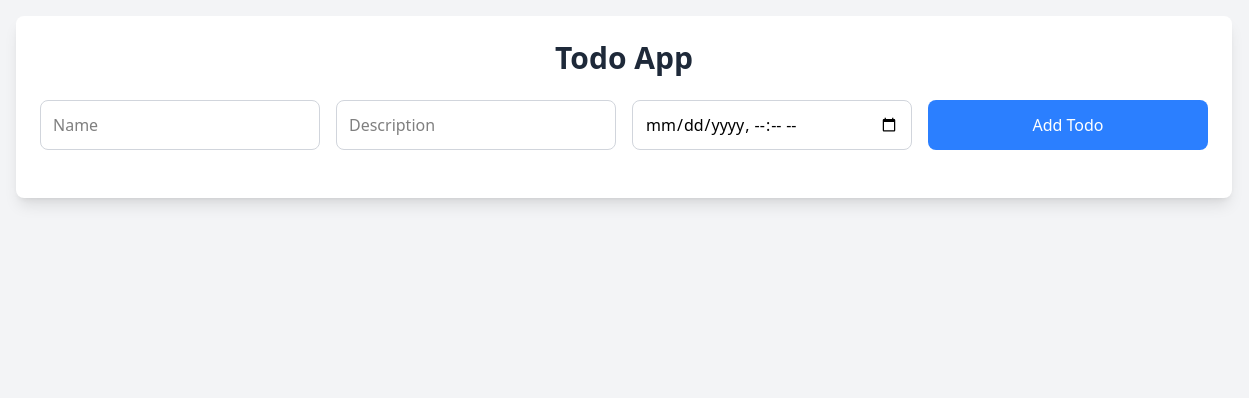
Home › adds a new todo
The image size is (1249, 398).
Type "Test Todo" into the field with placeholder "Name". click: coordinates (180, 125)
box: x1=40 y1=100 x2=320 y2=150
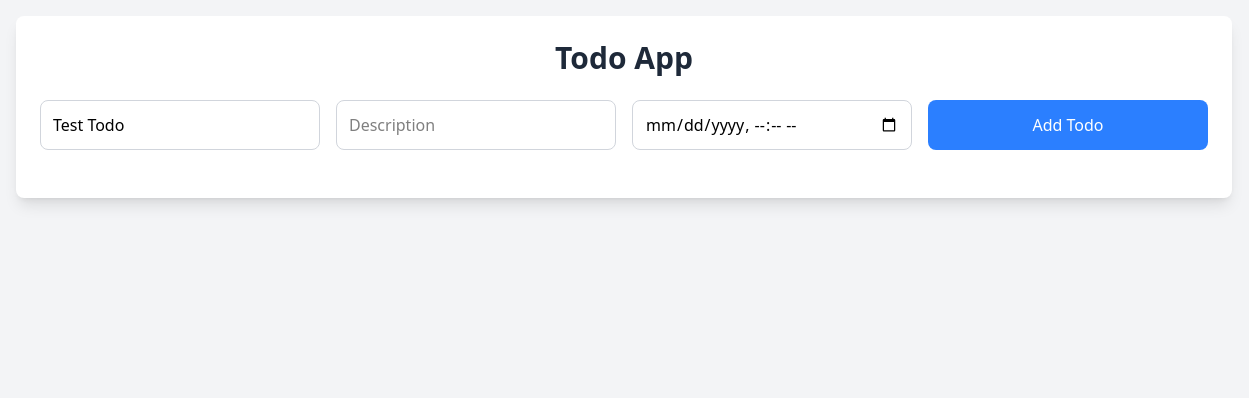
Type "Test Description" into the field with placeholder "Description". click: coordinates (476, 125)
box: x1=336 y1=100 x2=616 y2=150
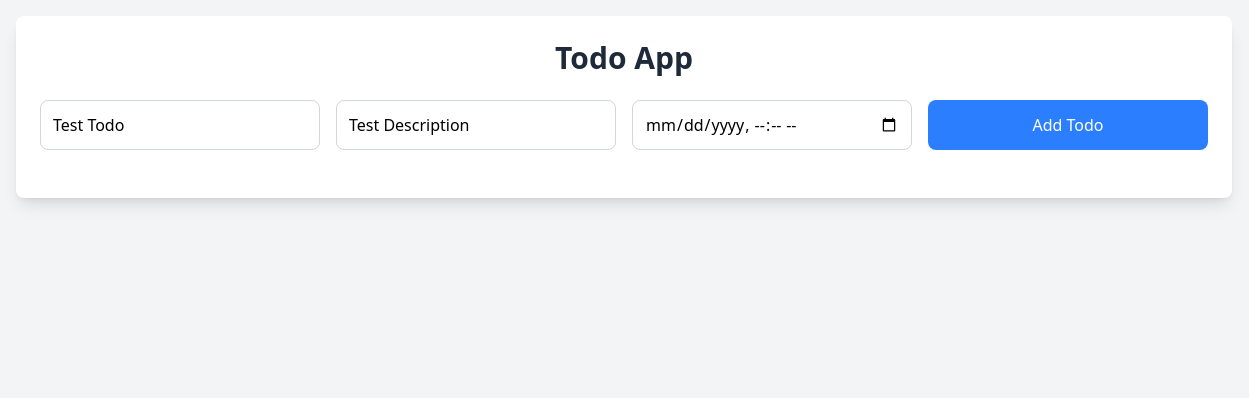
Type "2023-01-01T12:00" into the field with test id "date-input". click: coordinates (772, 125)
box: x1=632 y1=100 x2=912 y2=150
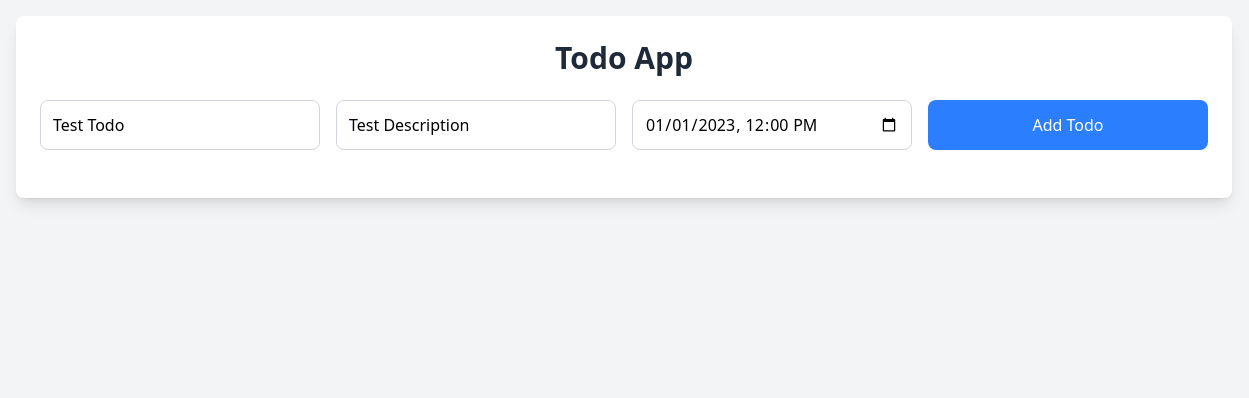
Click the button "Add Todo". click: coordinates (1068, 125)
box: x1=928 y1=100 x2=1208 y2=150
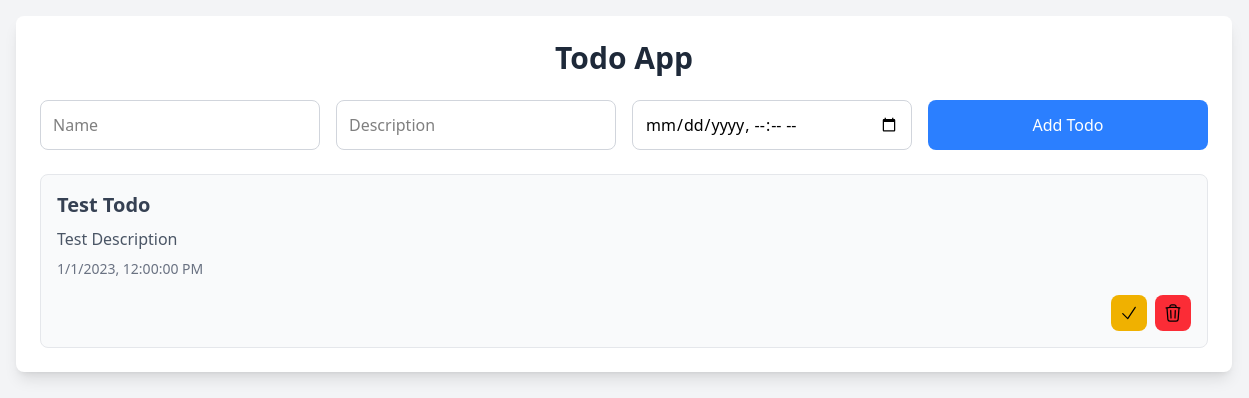
Expected: the heading "Test Todo" is shown, x1=57 y1=191 x2=150 y2=218
Expected: the text "Test Description" is shown, x1=57 y1=228 x2=178 y2=250
